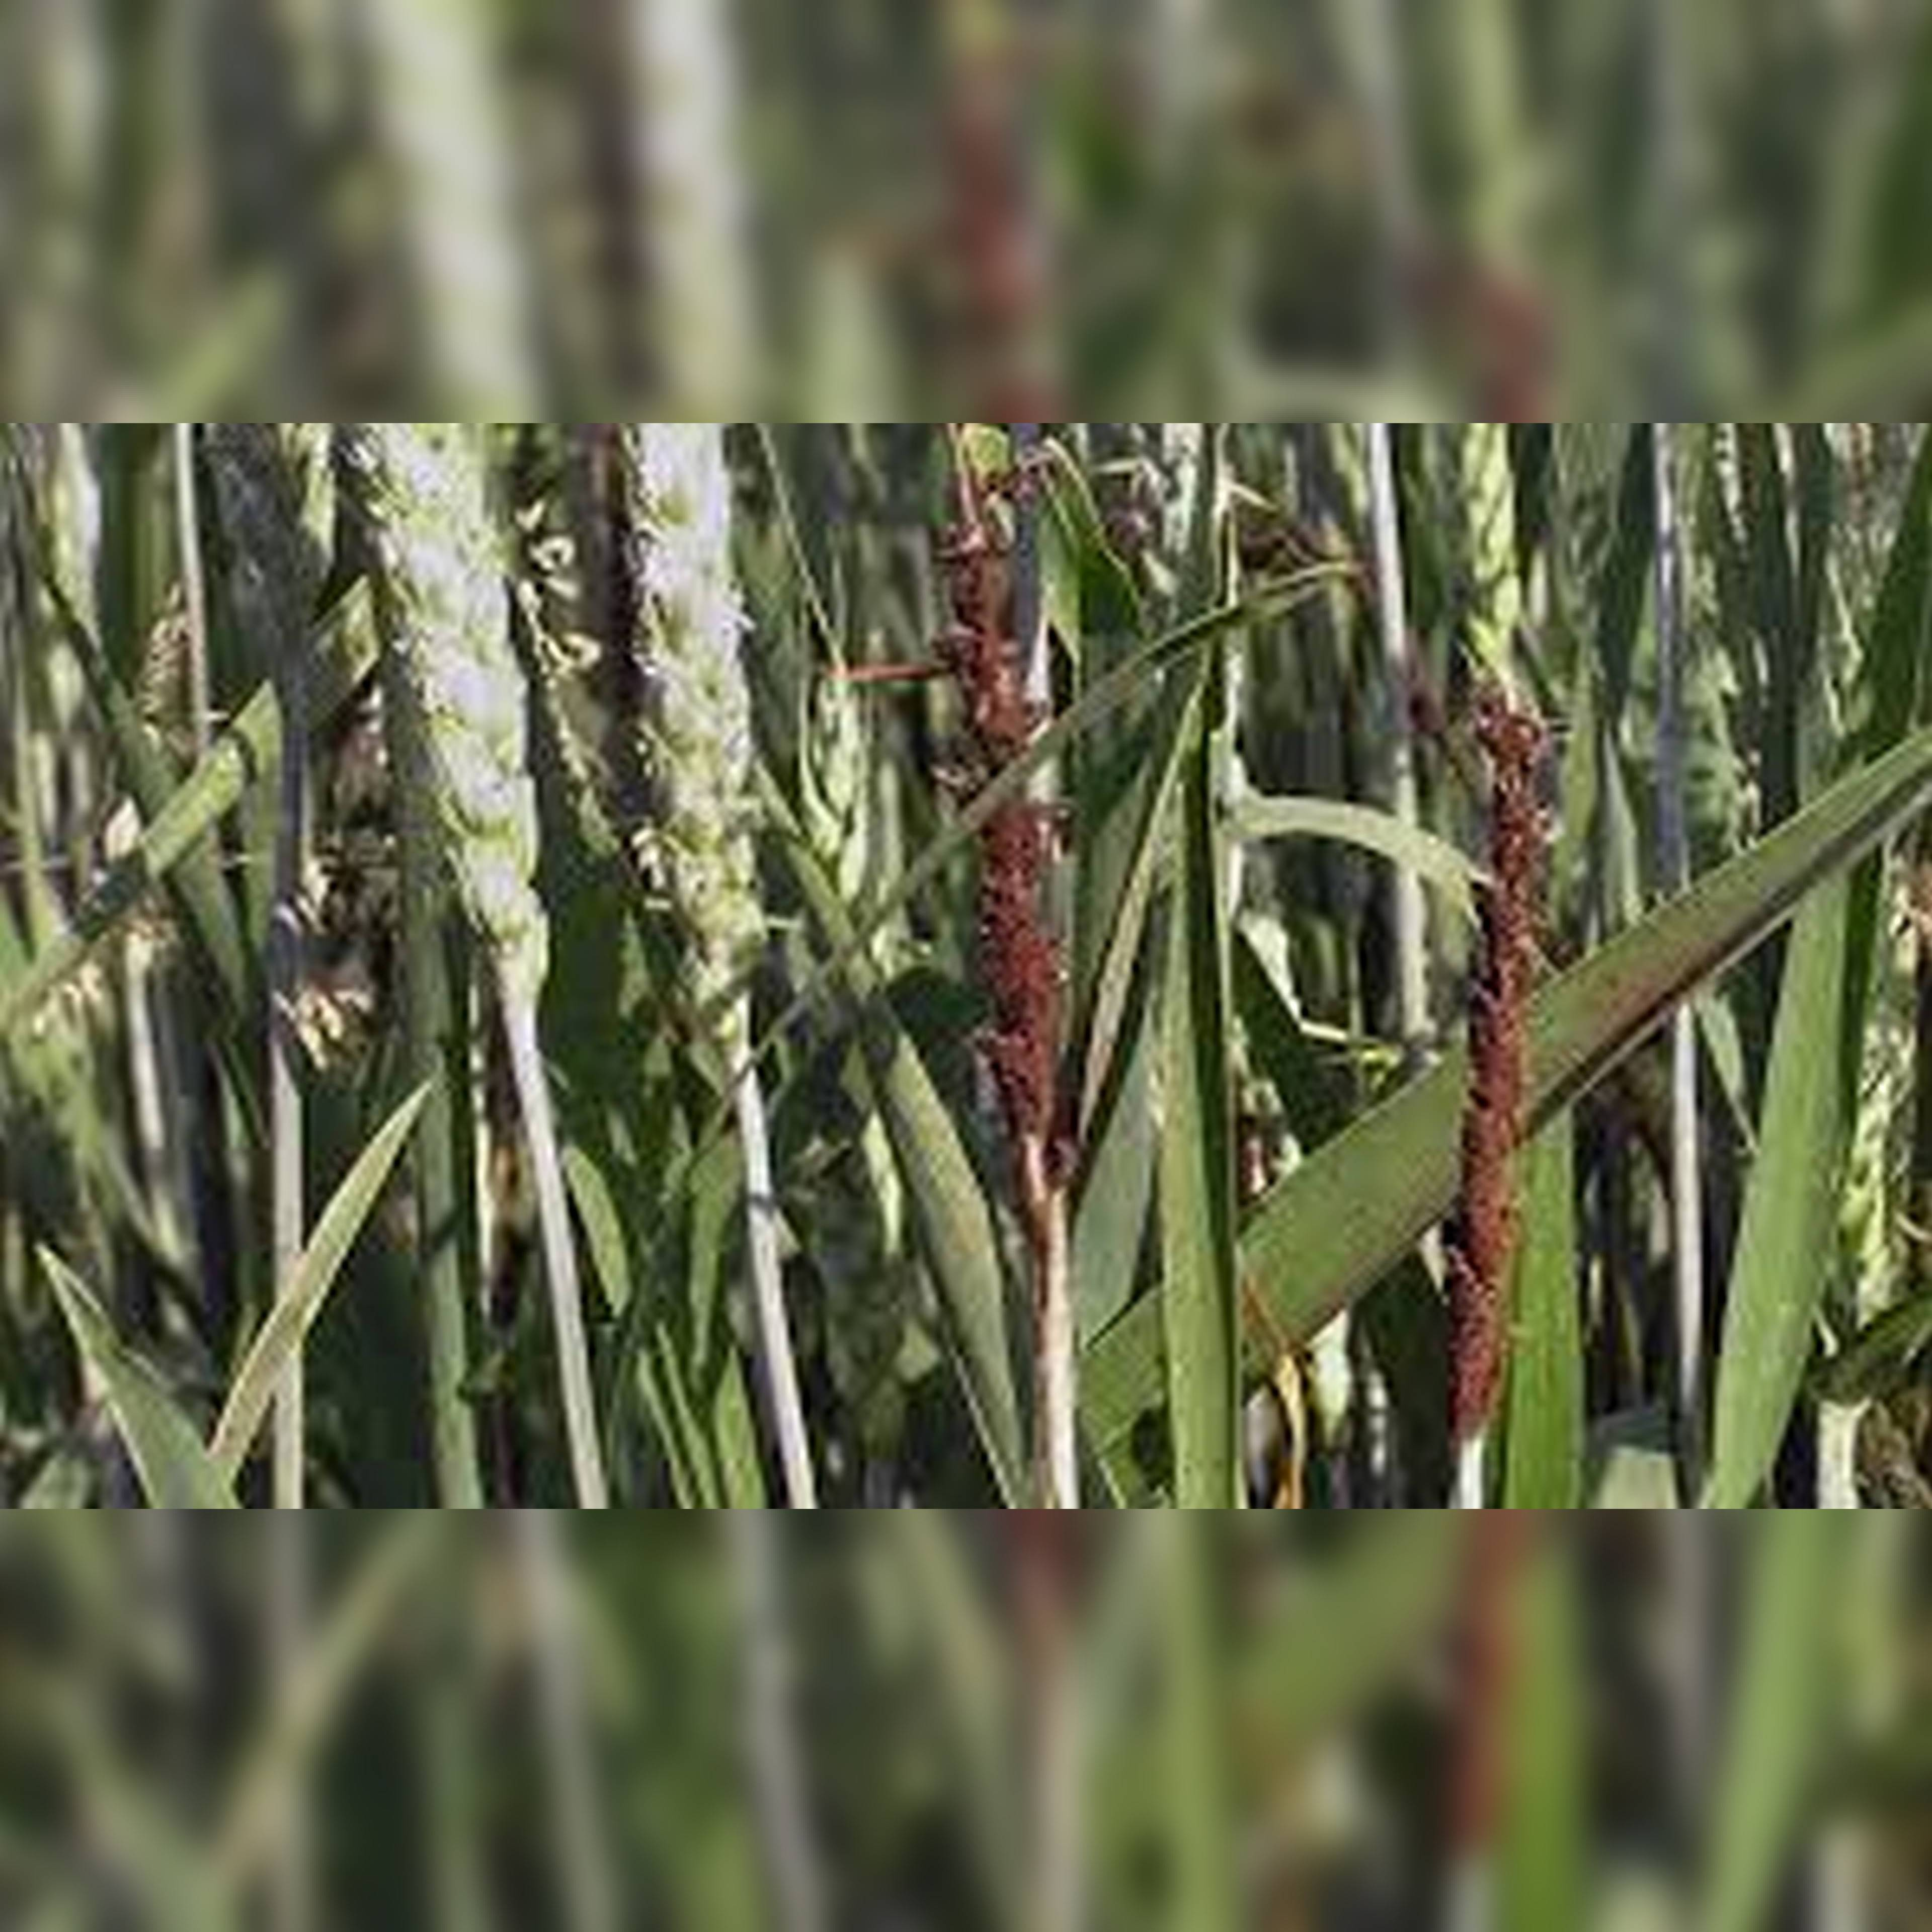Wheat Loose Smut: (888, 511, 1115, 1139), (1396, 708, 1591, 1426)
